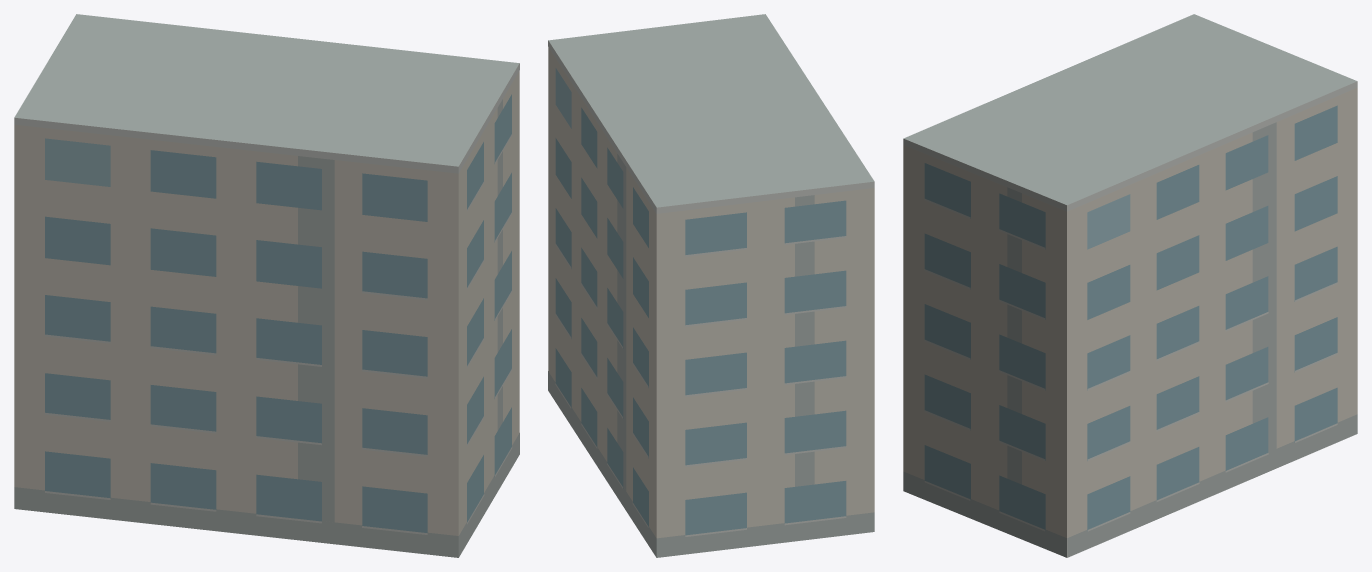
File: survey-upis-32998031.glb
The picture shows the model from 3 angles, left to right: view 1: azimuth 30°, elevation 25°; view 2: azimuth 150°, elevation 25°; view 3: azimuth 270°, elevation 25°; orthographic projection. The views are drawn at different scales.
Visible parts, largest first — view 1: survey-upis-32998031.tmp; view 2: survey-upis-32998031.tmp; view 3: survey-upis-32998031.tmp.
Part boxes in pixels (<box>): survey-upis-32998031.tmp: <box>14,14,519,557</box>; survey-upis-32998031.tmp: <box>548,14,874,557</box>; survey-upis-32998031.tmp: <box>903,14,1357,557</box>.
Bounding box in the file's own units: 15.83 × 13.6 × 15.88.
